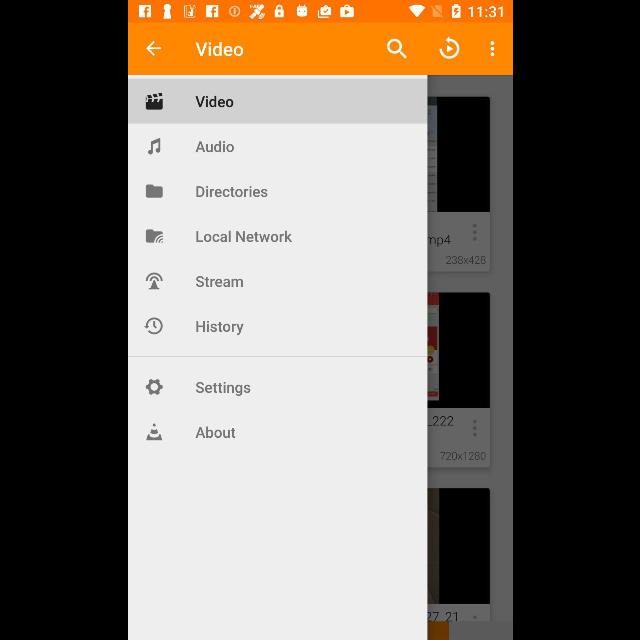icon: (438, 36, 459, 59), (386, 39, 406, 60), (144, 318, 162, 334), (145, 379, 163, 395), (145, 41, 161, 57), (146, 184, 162, 198), (146, 229, 162, 243), (490, 41, 494, 57)
image: (145, 92, 163, 110), (145, 272, 163, 290), (144, 423, 162, 441), (148, 138, 160, 154)
panel: (128, 76, 426, 640)
text: (195, 230, 292, 242), (195, 186, 267, 198), (195, 320, 243, 336), (196, 382, 250, 396), (195, 42, 243, 56), (195, 276, 242, 288), (194, 426, 236, 439), (195, 95, 233, 108), (194, 141, 233, 153)
toolbar: (128, 24, 512, 74)
uppertaskbar: (128, 1, 512, 23)
